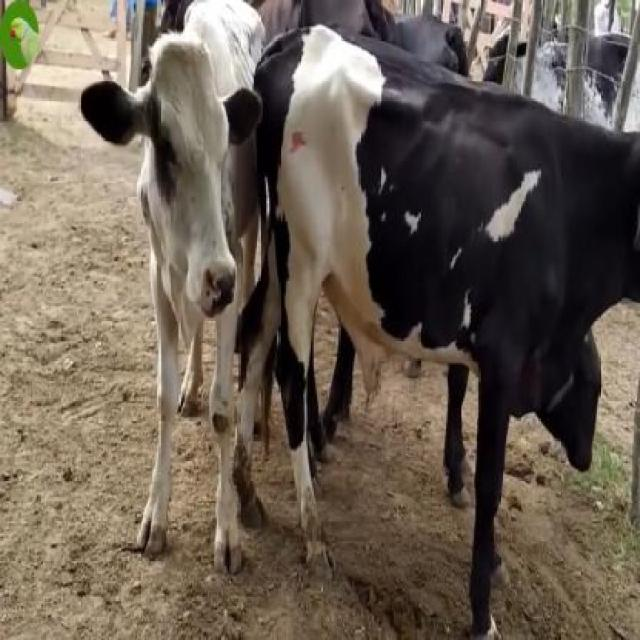Cow: (80, 0, 266, 578)
